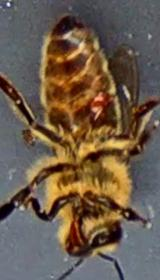varroa_mite: (86, 72, 122, 128)
